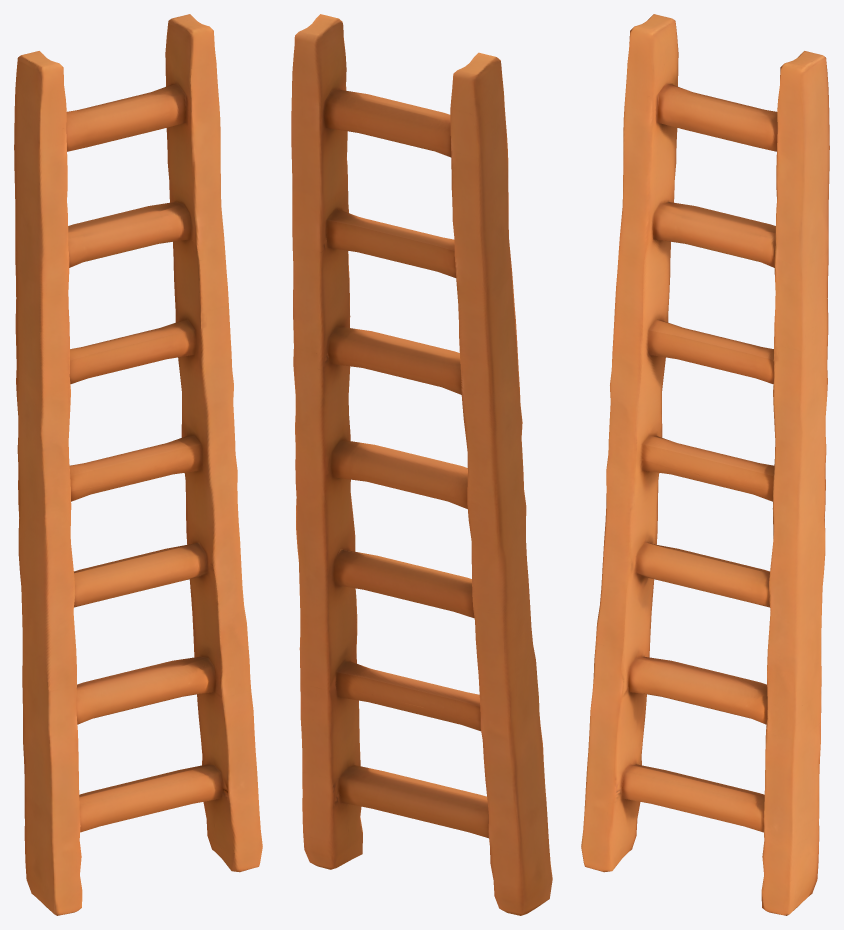
The model's file is base_basic_shaded.fbx.
3 views of the same model, side by side, from view 1: azimuth 30°, elevation 25°; view 2: azimuth 150°, elevation 25°; view 3: azimuth 330°, elevation 25° (orthographic). The views are drawn at different scales.
Visible parts, largest first — view 1: model; view 2: model; view 3: model.
Boxes of the visible parts, x1=… form: model: x1=14, y1=14, x2=262, y2=915; model: x1=291, y1=14, x2=552, y2=915; model: x1=581, y1=14, x2=829, y2=915.
Bounding box in the file's own units: 47.67 × 177 × 22.46.
